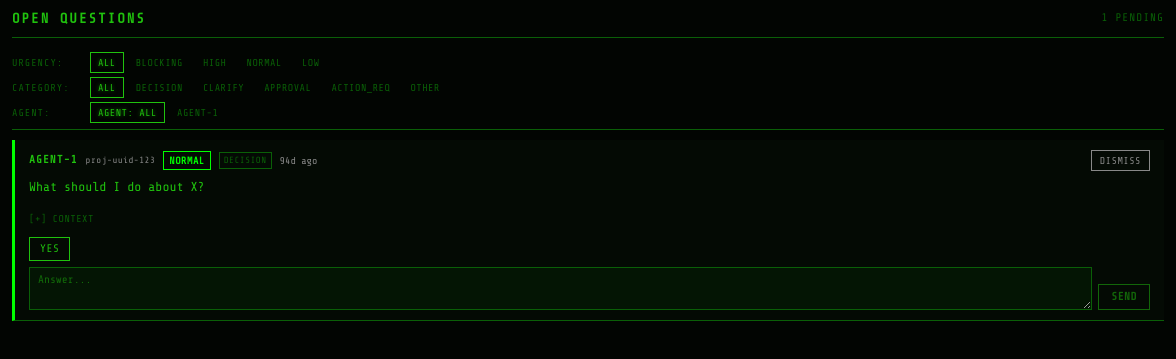
Test: OpenQuestionsView › per-row error display (adj-181.11) › should show a row-level error when answer fails
Click the button "Yes" at coordinates (50, 249), box [29,236,70,261]
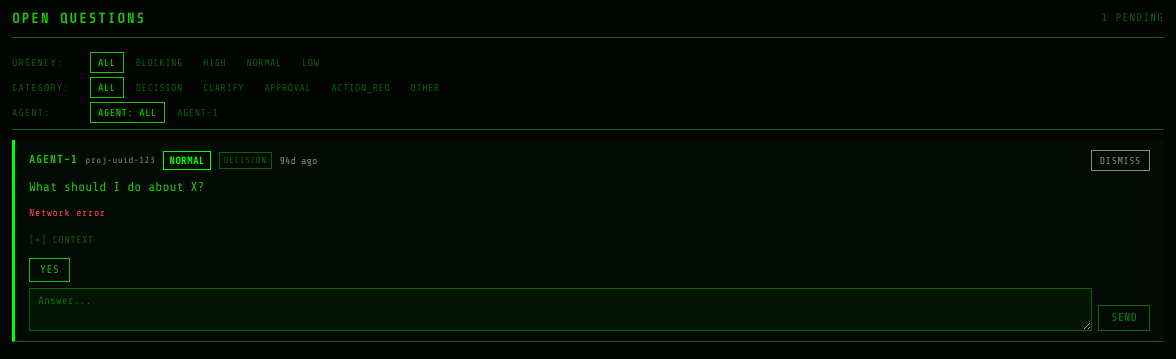
Expected: the text "Network error" is shown, [29,206,106,218]
